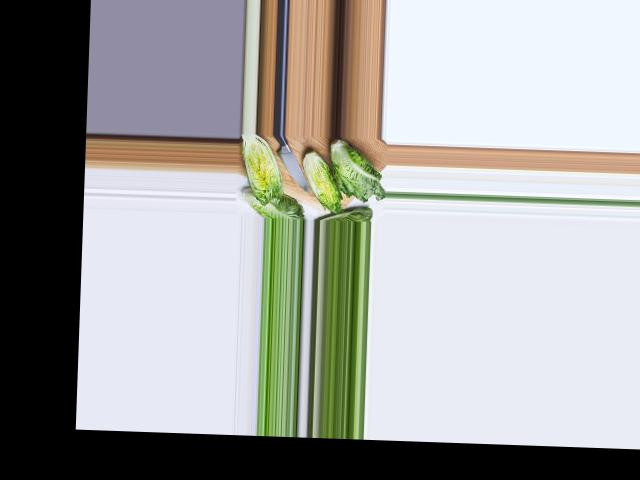lettuce: (241, 188, 303, 216)
